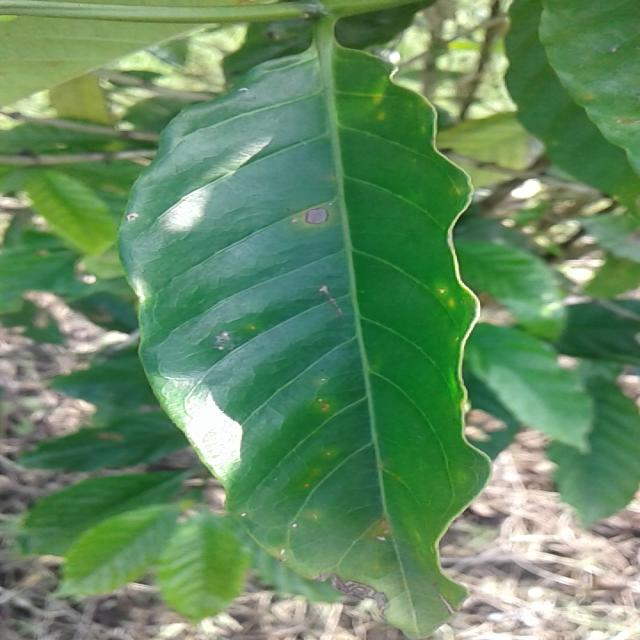Enfermedad-Roya: (117, 45, 493, 640)
